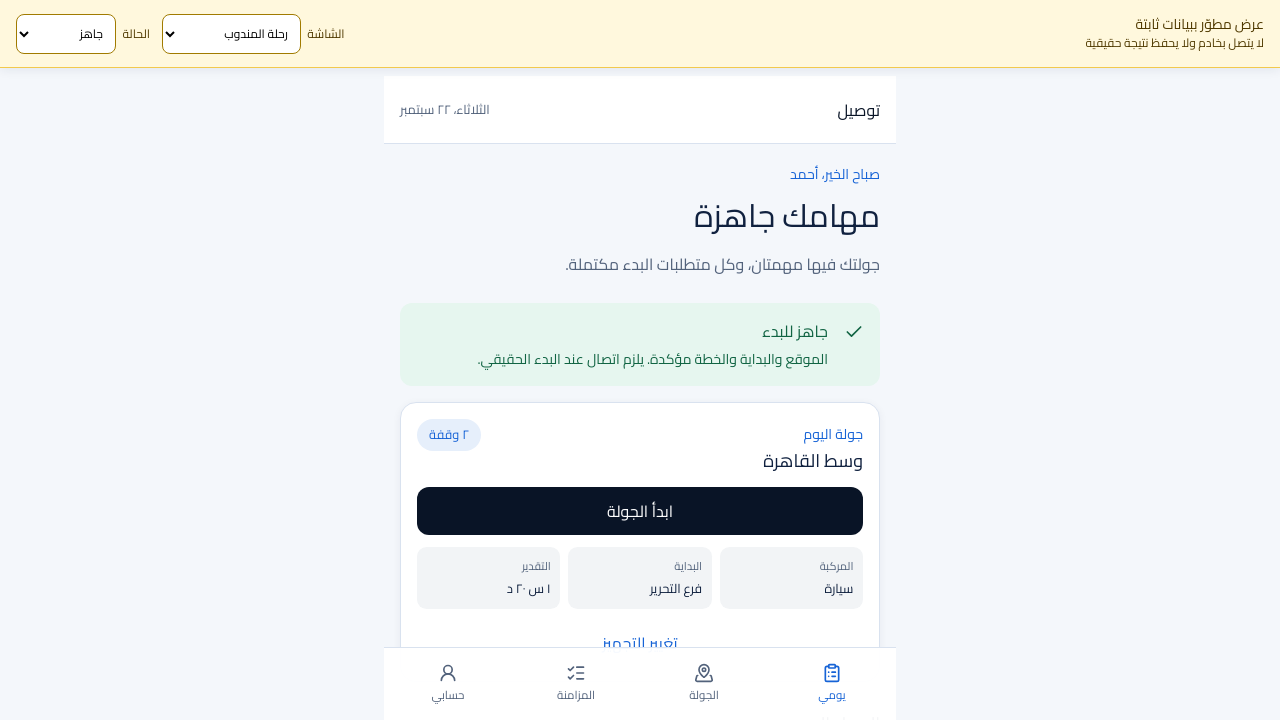
Scenario: representative driver fixture › shows existing ownership without a second-start control
Select "هاتف آخر" in the dropdown labelled "الحالة": (66, 34) [16,14,116,54]
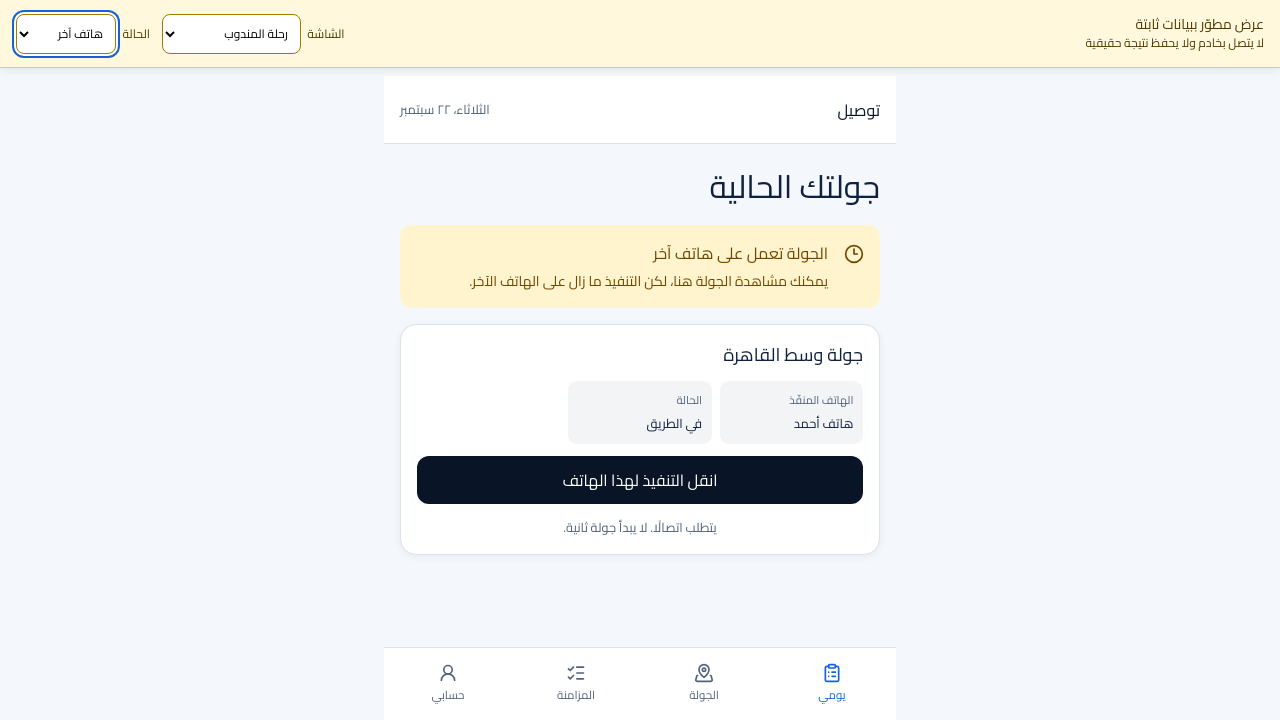
Now the text "الجولة تعمل على هاتف آخر" is shown, box [653,238,828,268]
Now the button "انقل التنفيذ لهذا الهاتف" is shown, box [417,456,863,504]
Now the button "ابدأ الجولة" is gone
